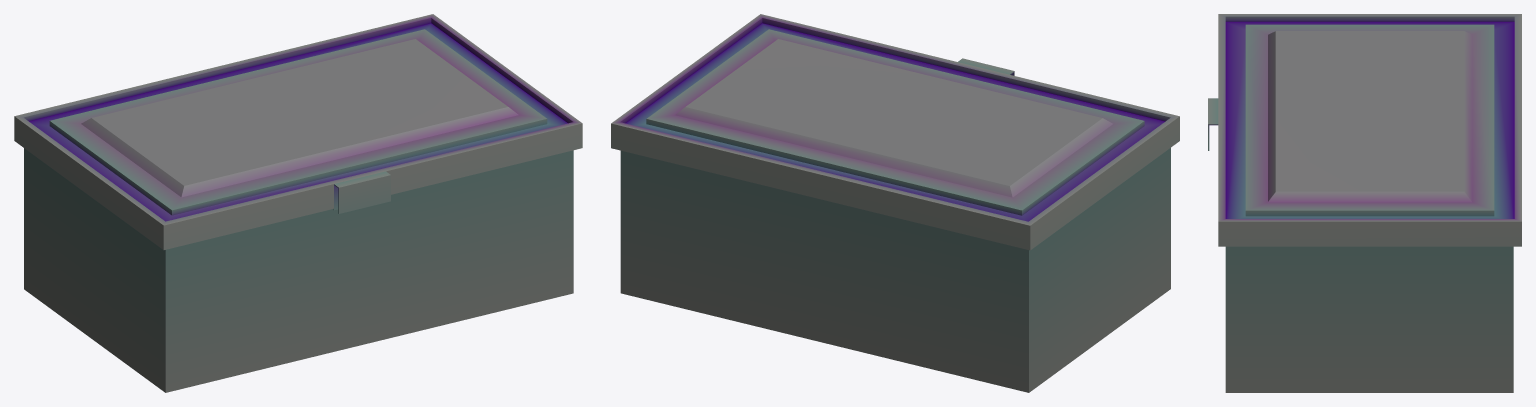
The picture shows the model from 3 angles, left to right: view 1: azimuth 30°, elevation 25°; view 2: azimuth 150°, elevation 25°; view 3: azimuth 270°, elevation 25°; orthographic projection.
Visible parts, largest first — view 1: body, lid_rim, tab; view 2: body, lid_rim; view 3: lid_rim, body, tab.
Part boxes in pixels (box(x1,y1,x2,y2)): body: box(24, 148, 573, 392); lid_rim: box(14, 14, 582, 249); tab: box(333, 171, 390, 213); body: box(620, 148, 1170, 392); lid_rim: box(611, 14, 1179, 250); lid_rim: box(1218, 14, 1521, 246); body: box(1225, 246, 1513, 392); tab: box(1208, 98, 1218, 150).
Bounding box in the file's own units: 0.5 × 0.2035 × 0.3194.
